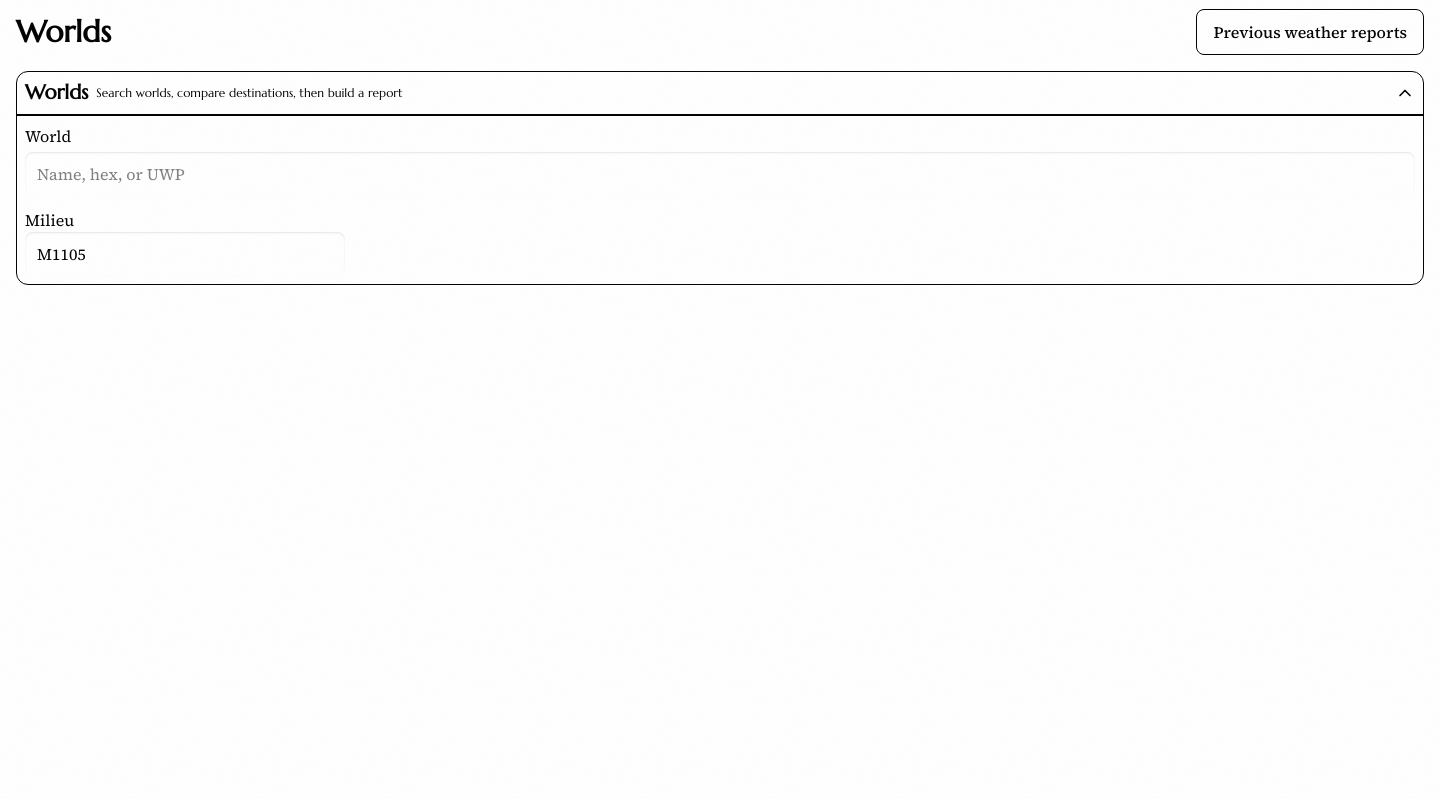
Test: Traveller briefing session log action › explains why saving is unavailable without an active session
Step 1. Type "Zila" into the dropdown labelled "World" → (720, 174), box 25,152 -> 1415,196
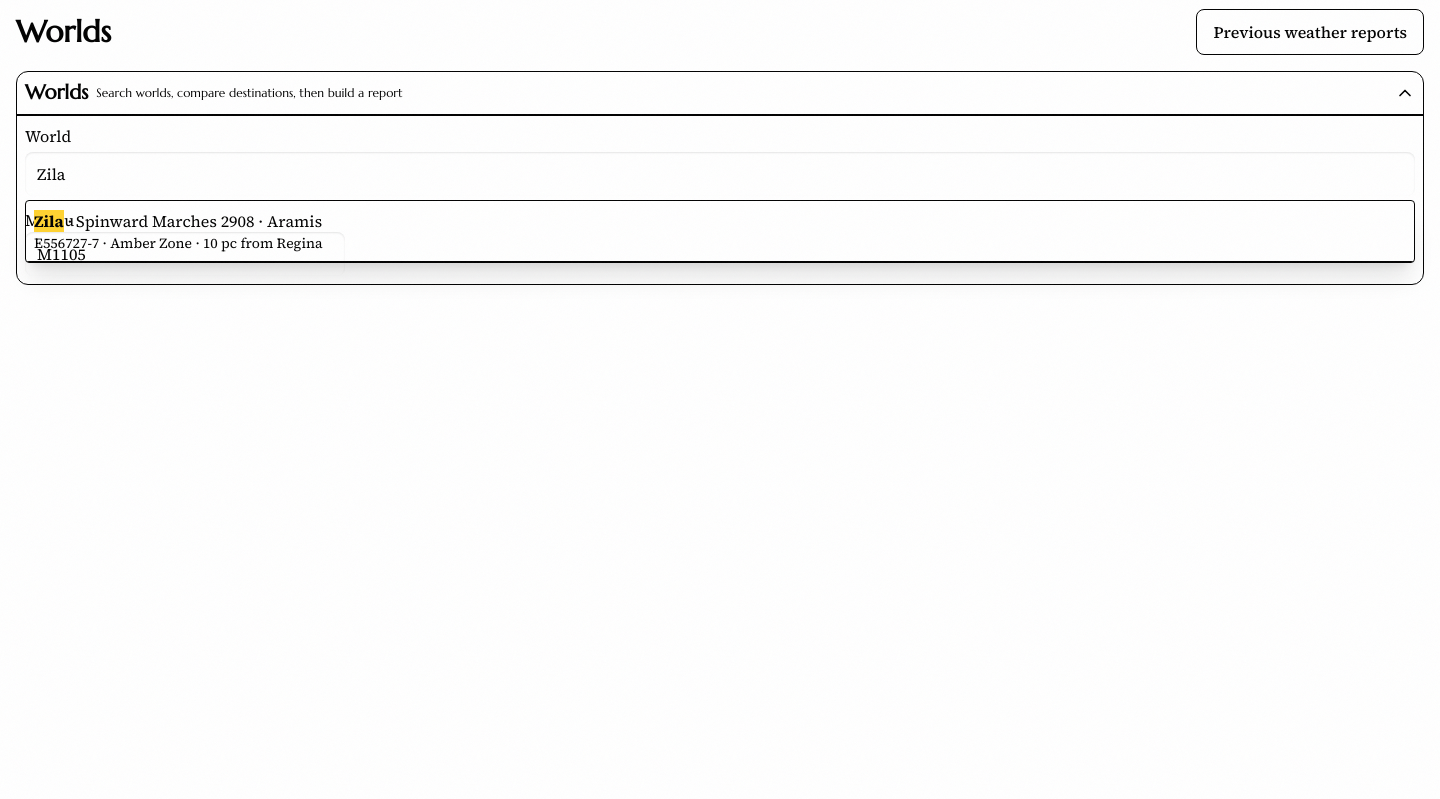
Step 2. Click the button that starts with "Zila" → (146, 221), box 26,201 -> 1414,262
(page scrolled)
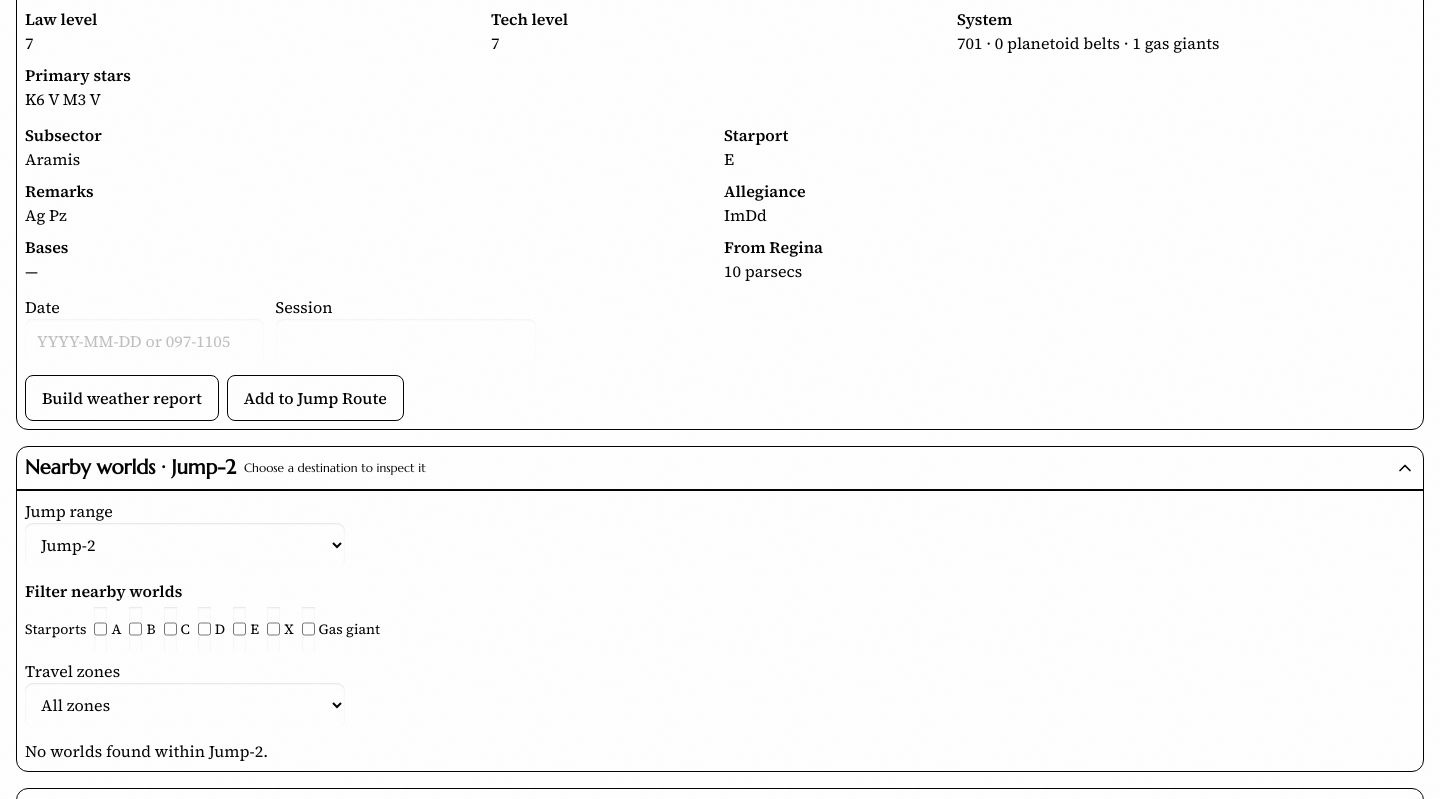
Check: the button "Build weather report" is shown
Check: the field labelled "Date" is disabled, box 25,319 -> 264,363
Step 3. Click the button "Build weather report" → (122, 398), box 25,375 -> 219,421
(page scrolled)
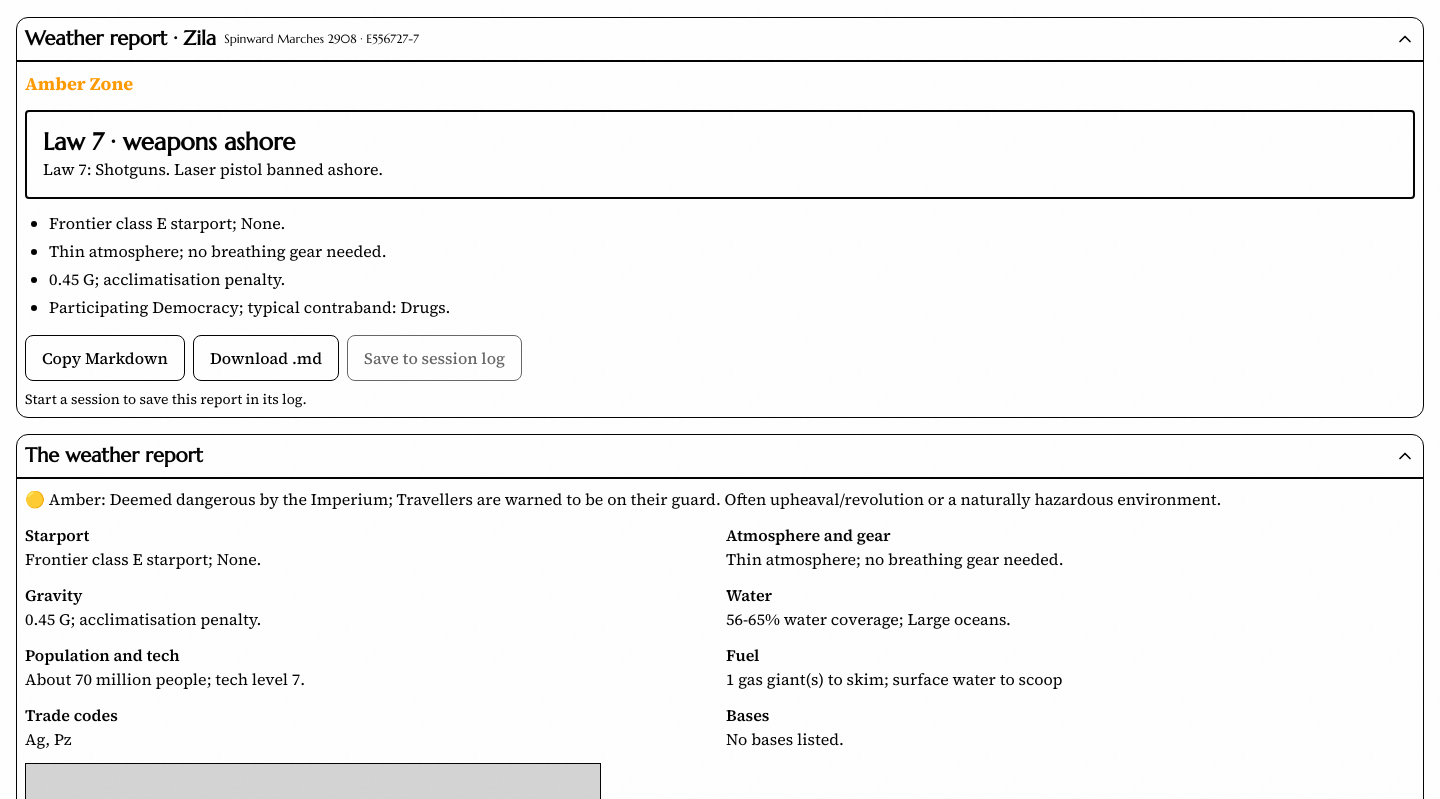
Check: the button "Save to session log" is disabled, box 347,335 -> 522,381
Check: the text "Start a session to save this report in its log." is shown, box 25,389 -> 307,409
